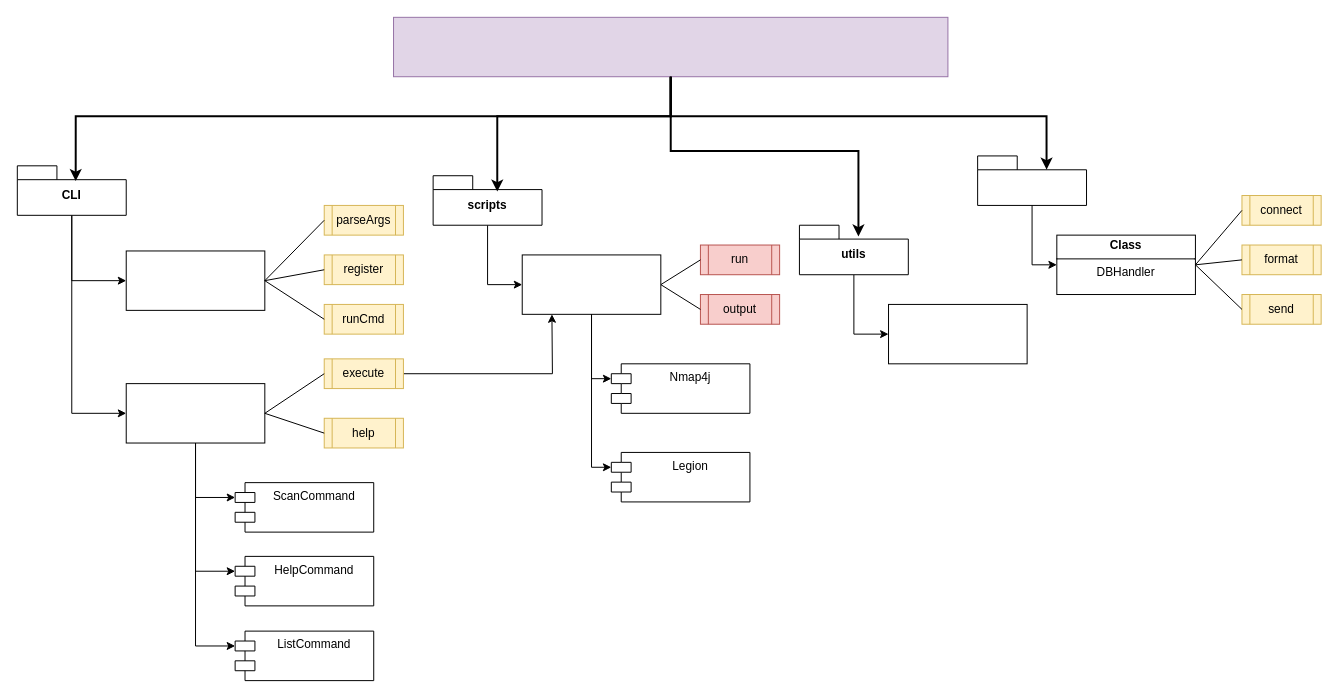
This 1338x698 diagram has some shape labels left out. Here are the shapes that lost their labels. From the top down, the centre of each, then its label:
the point at 670,46: Application CLI
the point at 1032,180: data
the point at 195,280: Class CommandHandler
the point at 591,284: Class AbstractScript
the point at 957,333: Class log4j
the point at 195,413: Interface Command
